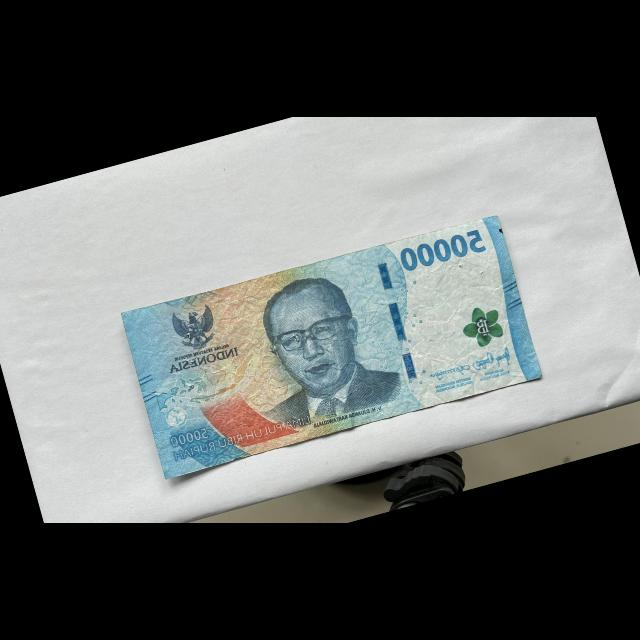Palsu-50k: (116, 207, 547, 485)
Tinta-Palsu-50k: (455, 299, 509, 353)
